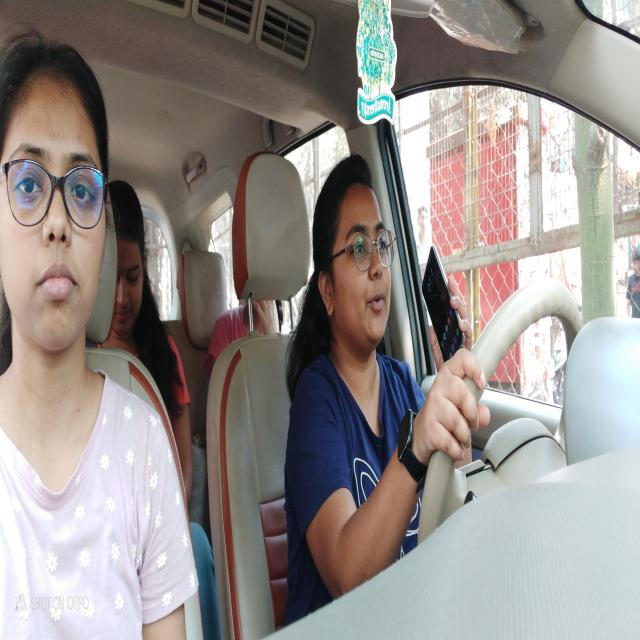mobile: (418, 237, 471, 403)
person: (1, 34, 114, 386), (313, 152, 401, 356), (108, 169, 153, 335)
